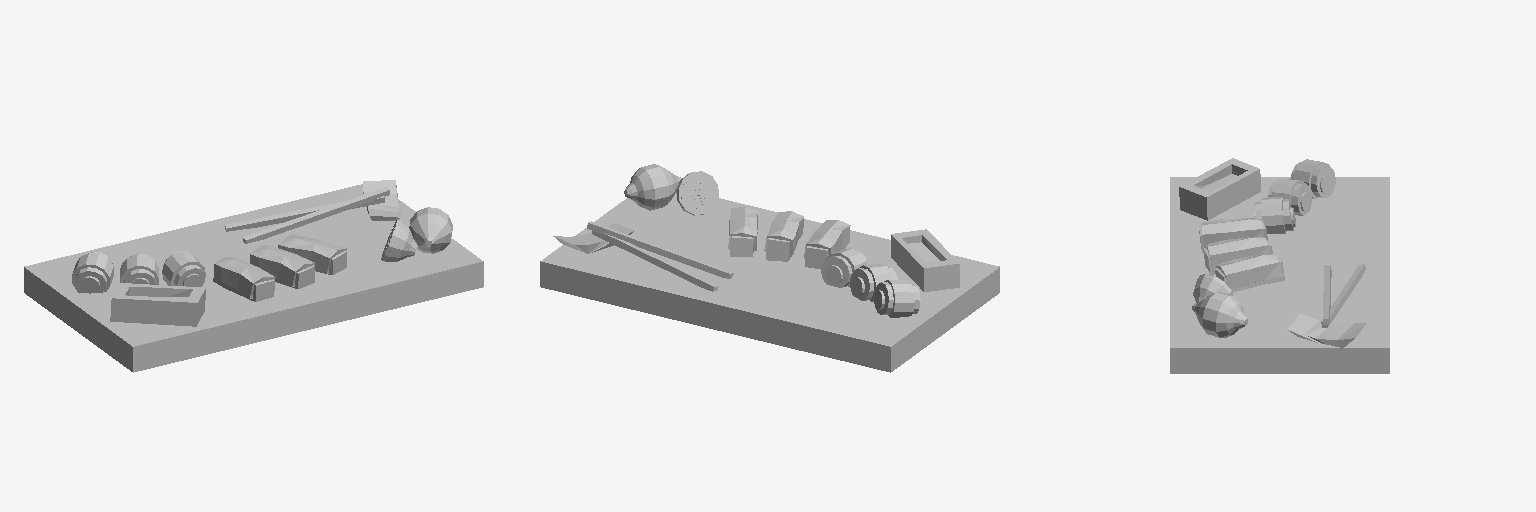
The model's file is sushi.obj.
The picture shows the model from 3 angles: view 1: azimuth 30°, elevation 25°; view 2: azimuth 150°, elevation 25°; view 3: azimuth 270°, elevation 25°; orthographic projection.
Bounding box in the file's own units: 0.8617 × 0.1546 × 0.46.